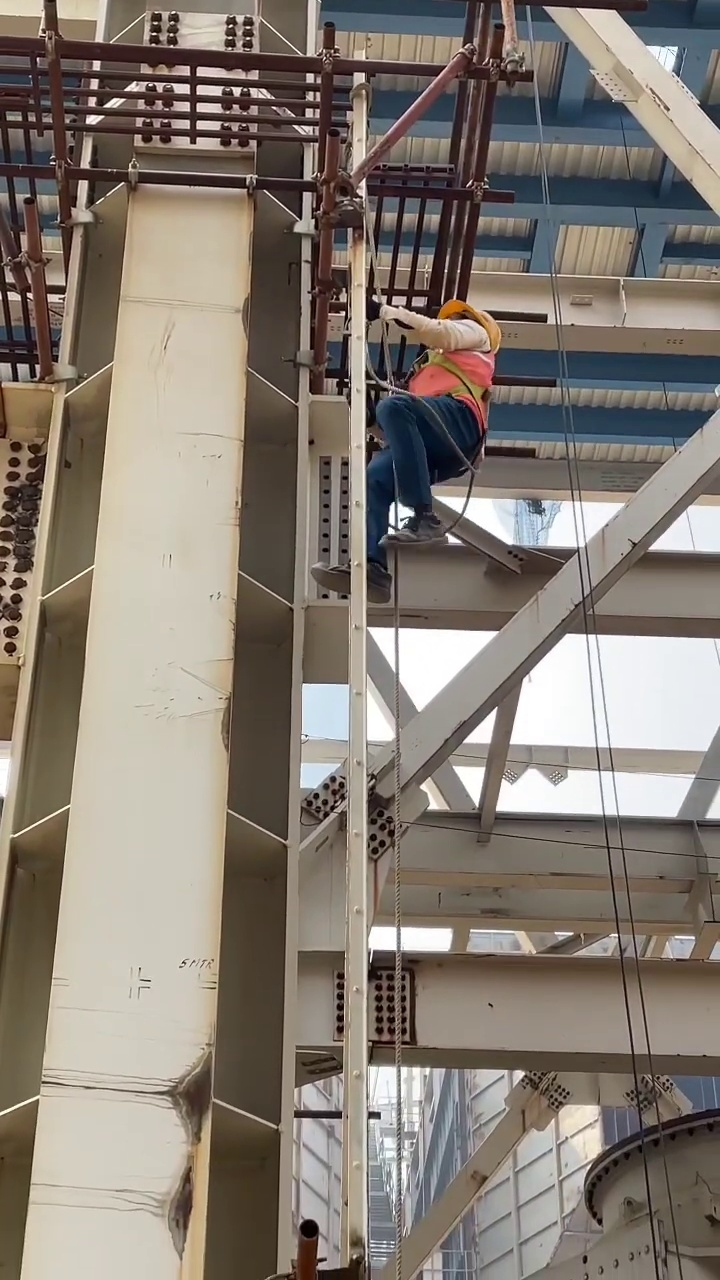Helmet: (439, 300, 504, 340)
Person: (309, 299, 504, 604)
Safety_Harness: (404, 344, 498, 425)
Safety_shoes: (309, 561, 392, 603), (376, 513, 453, 550)
